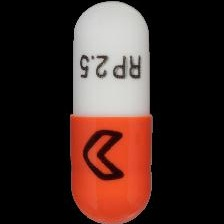16252-571: (0, 0, 224, 224)
